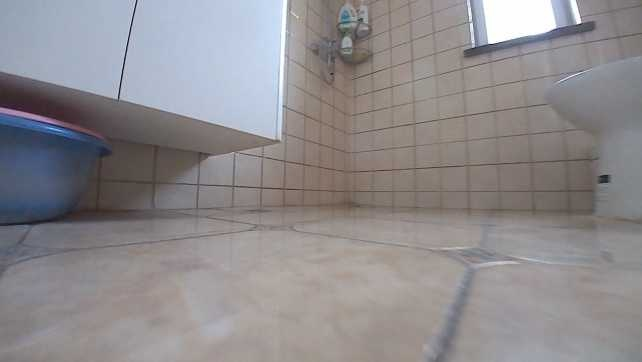toilet: (545, 54, 641, 220)
